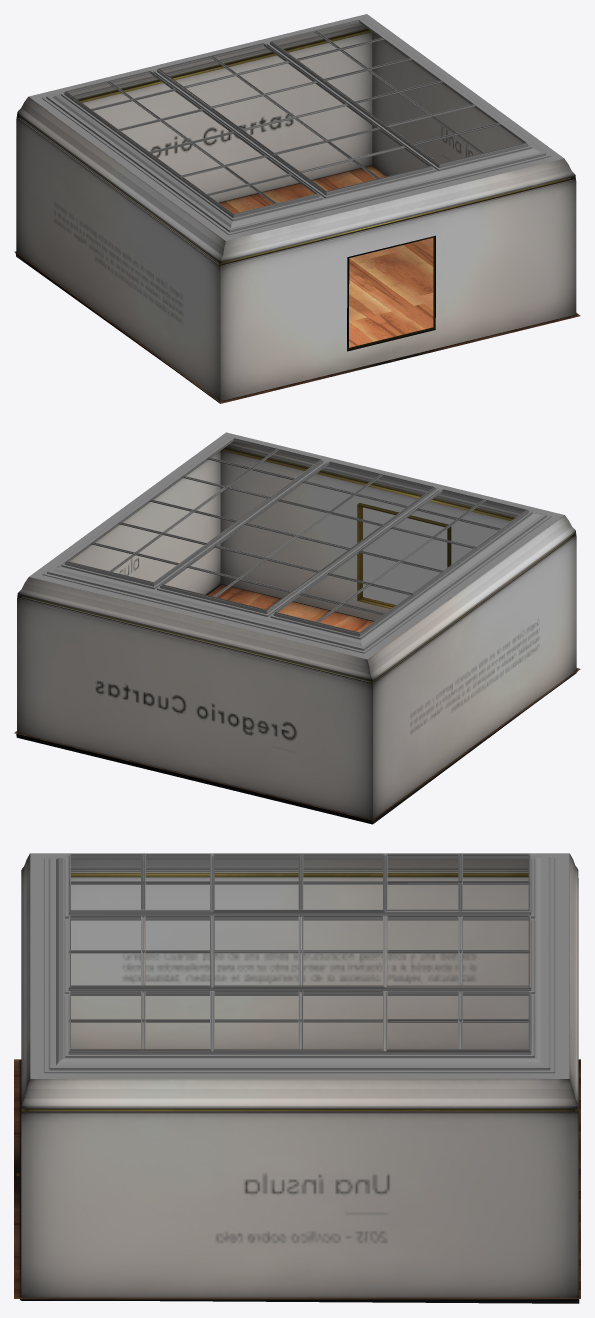
3 views of the same model, one above another, from view 1: azimuth 30°, elevation 25°; view 2: azimuth 150°, elevation 25°; view 3: azimuth 270°, elevation 25° (orthographic). The views are drawn at different scales.
Parts seen in each view (by area): view 1: muros.1, Floor, muros, muros.2, Cube.1; view 2: muros.1, Plane, Floor, muros, muros.2, Cube.1; view 3: muros.1, muros.2, Floor, muros.
Boxes of the visible parts, box(x1,y1,x2,y2) form: muros.1: box(15, 14, 576, 403); Floor: box(14, 165, 580, 403); muros: box(90, 37, 500, 195); muros.2: box(107, 30, 483, 206); Cube.1: box(347, 235, 435, 351); muros.1: box(16, 432, 577, 824); Plane: box(363, 507, 447, 612); Floor: box(14, 584, 580, 820); muros: box(91, 457, 500, 615); muros.2: box(109, 448, 485, 622); Cube.1: box(357, 503, 451, 616); muros.1: box(20, 853, 579, 1303); muros.2: box(68, 881, 530, 1022); Floor: box(14, 1059, 580, 1298); muros: box(141, 854, 462, 1048).
Bounding box in the file's own units: 171 × 77.73 × 171.
Materials: 3 (3 with a texture image).
